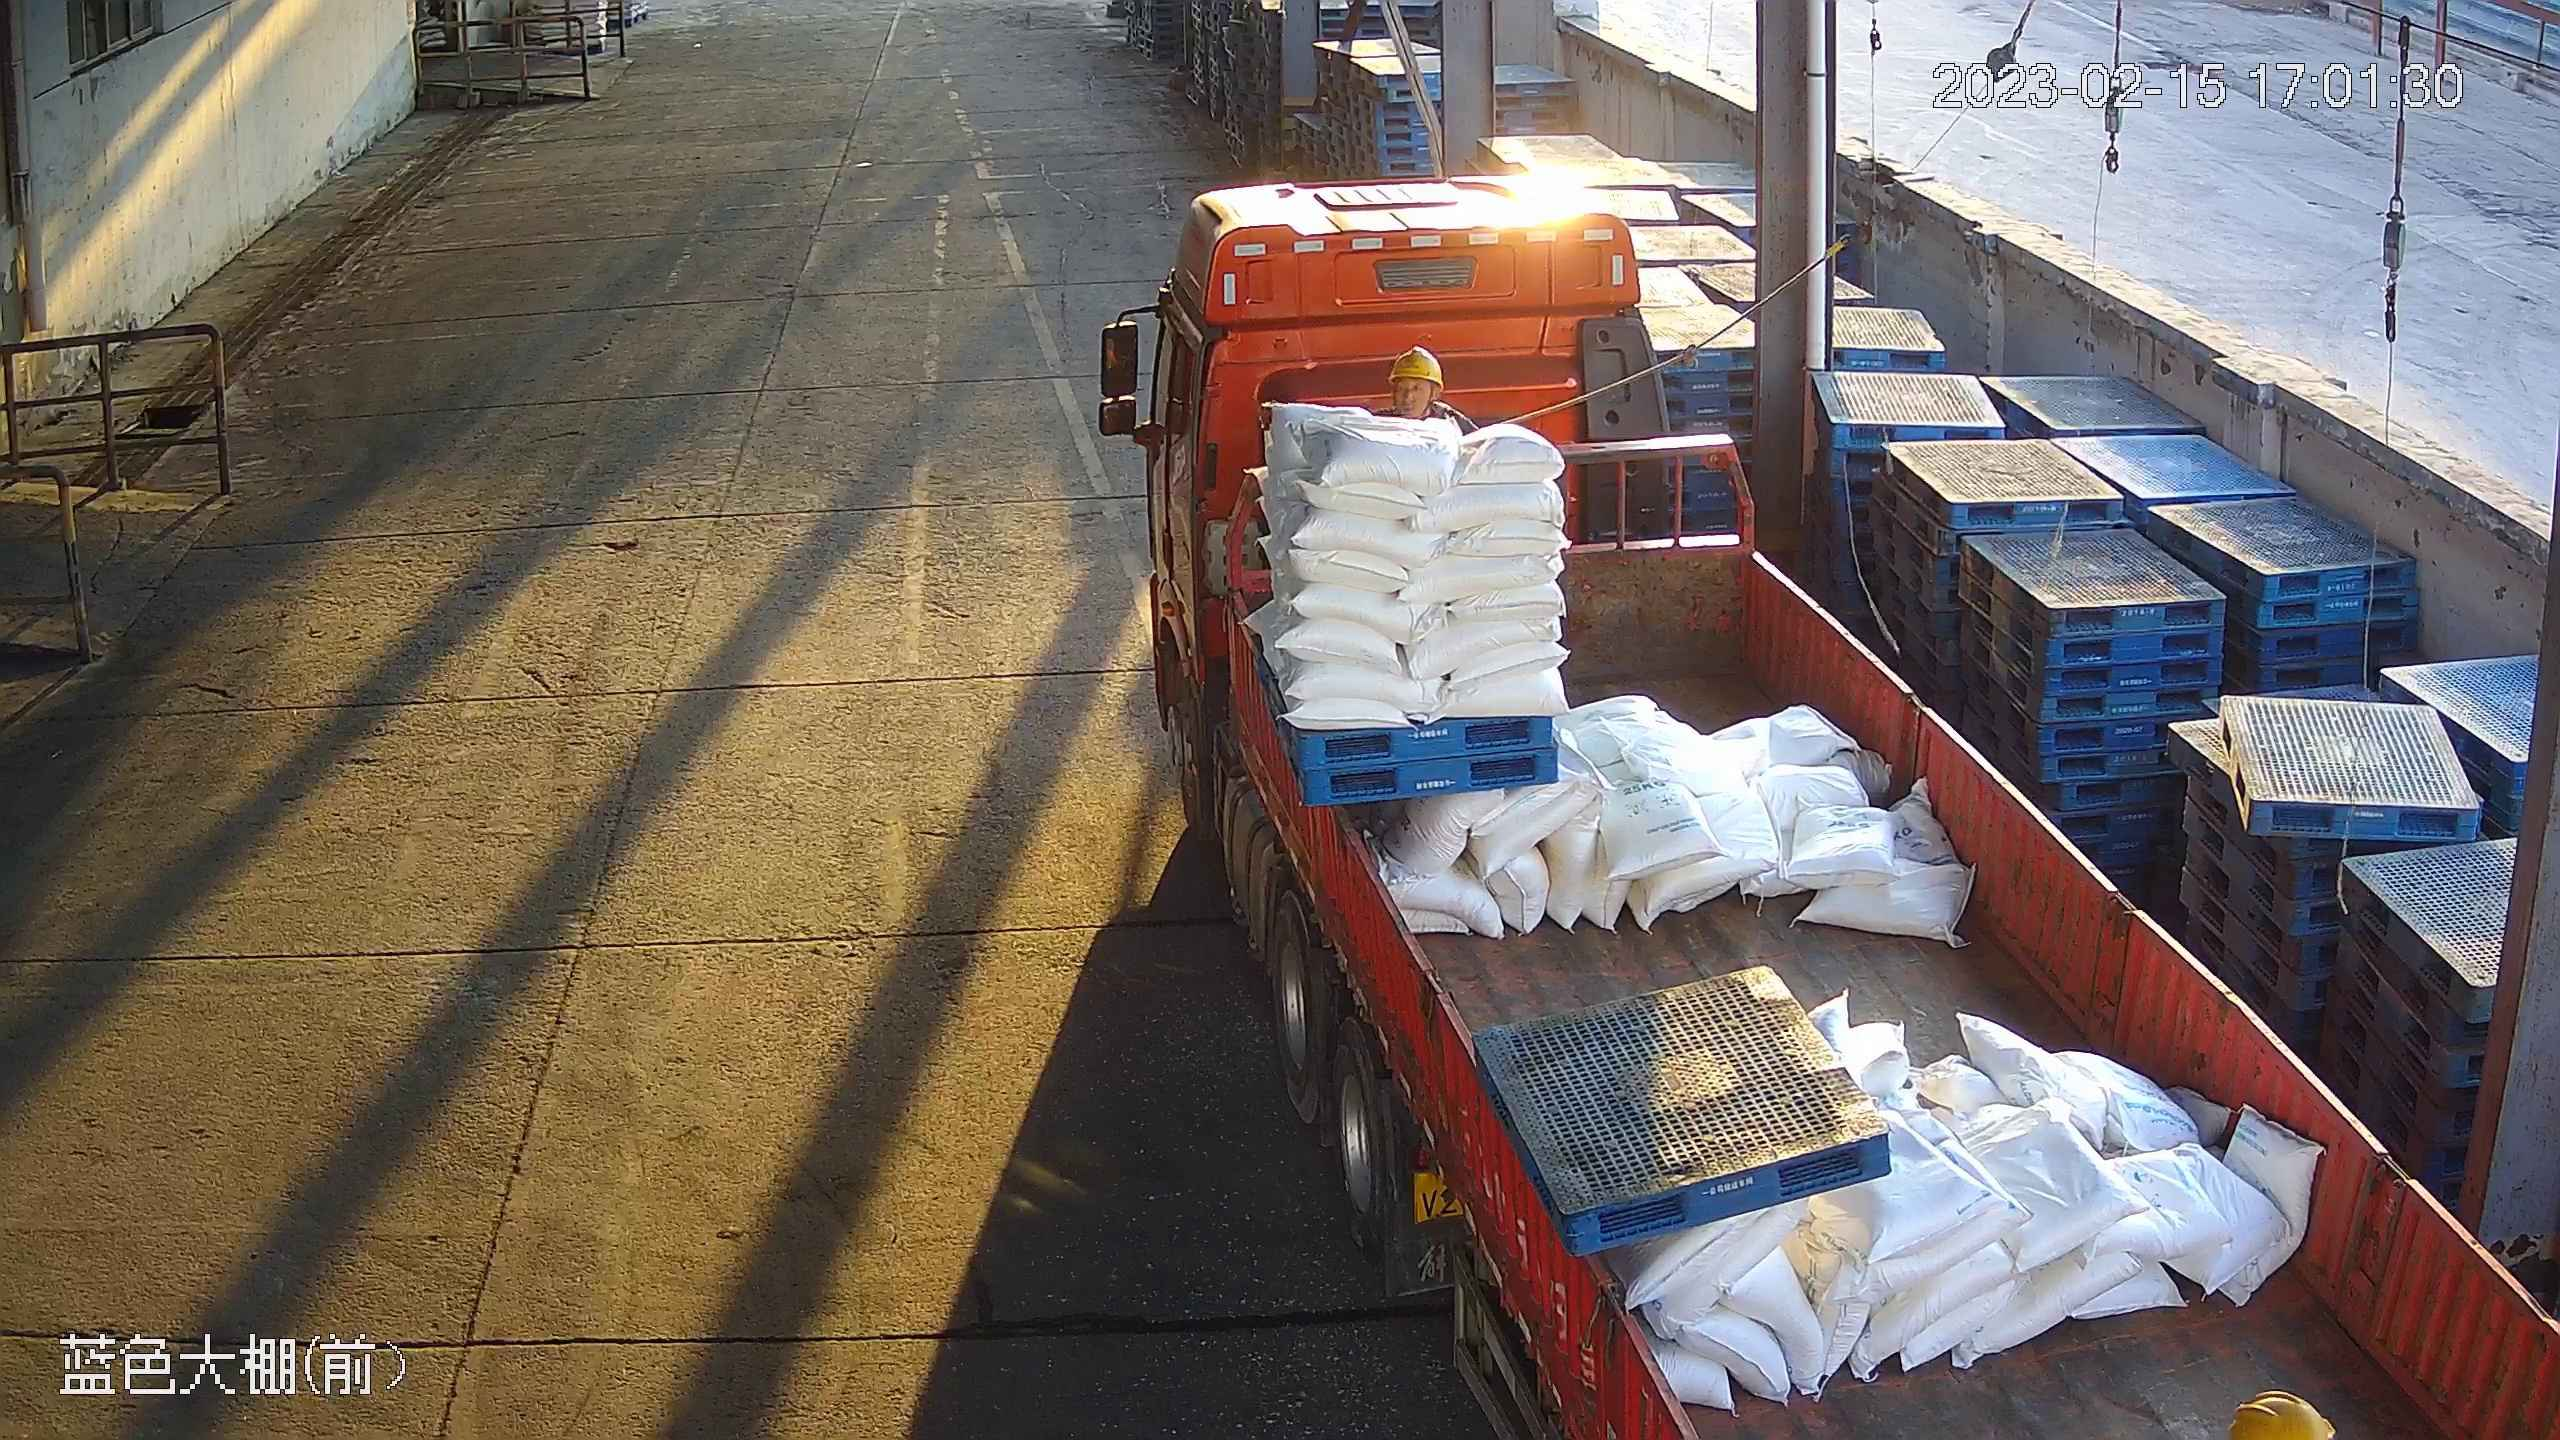helmet: (2224, 1385, 2337, 1440), (1389, 346, 1445, 385)
truck: (1094, 164, 2560, 1440)
